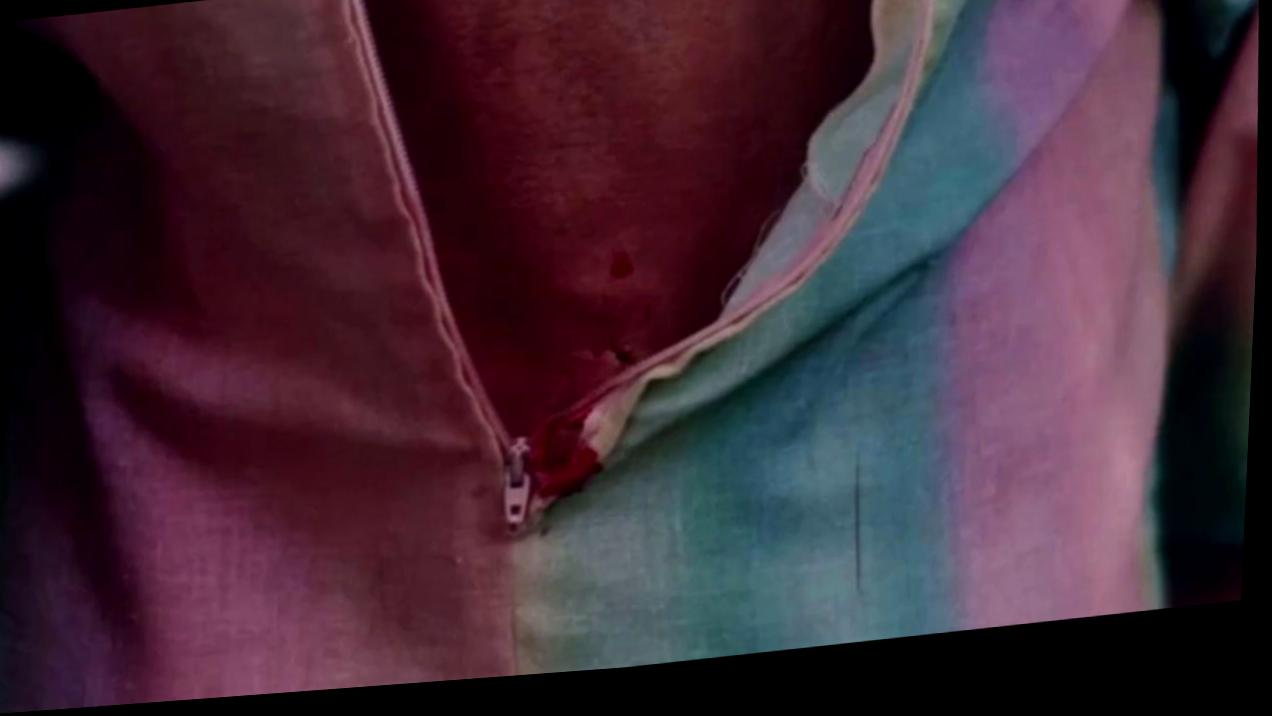Fire: (531, 411, 606, 534)
